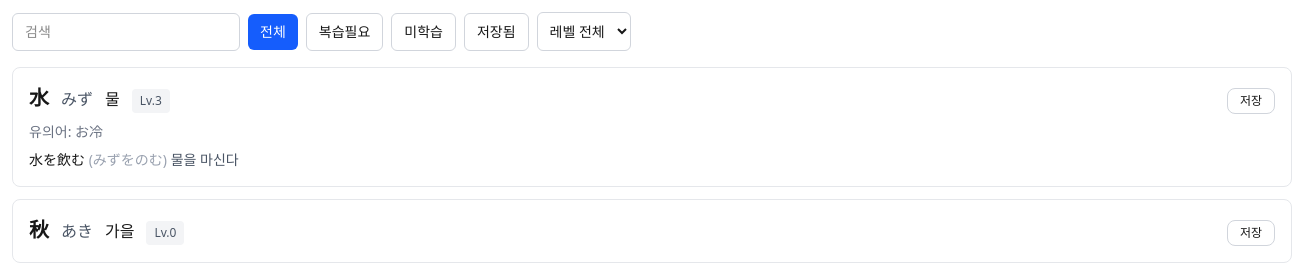
Test: WordCardList › 레벨 필터를 고르면 그 레벨 카드만 남는다
Select "레벨 3" in the dropdown named "레벨 필터" at {"x": 584, "y": 32}, box [537,12,631,51]
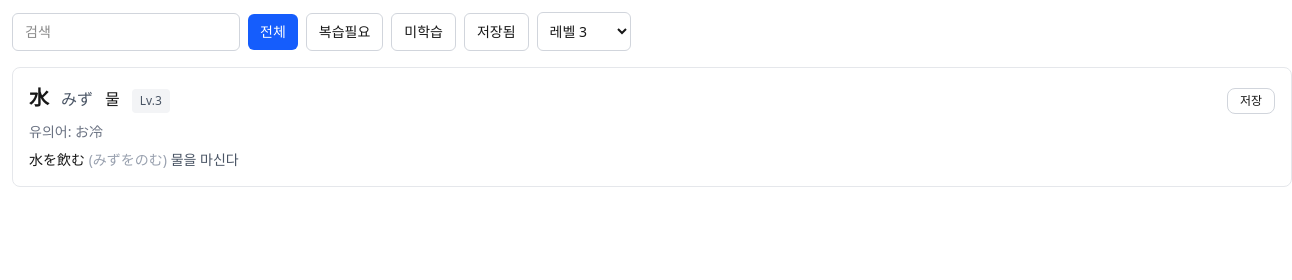
Expected: the text "水" is shown, [29,84,49,112]
Now the text "秋" is gone
